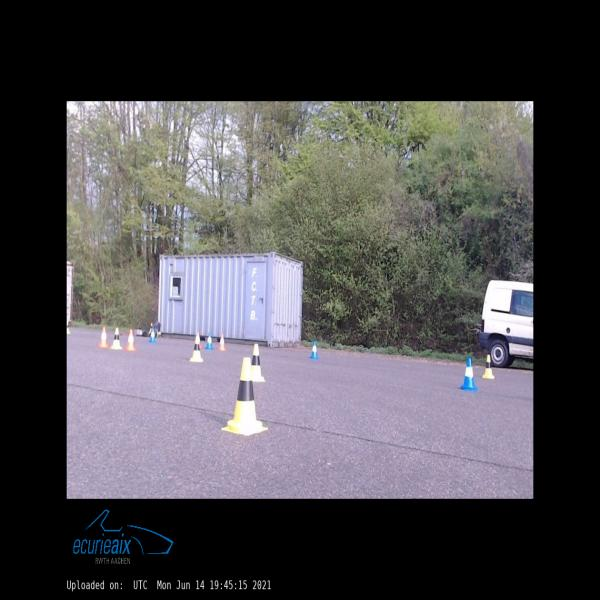blue_cone: (459, 357, 477, 390), (310, 340, 319, 358), (206, 333, 213, 349), (149, 327, 156, 342)
orange_cone: (124, 328, 137, 352), (99, 326, 109, 347), (218, 334, 226, 351), (194, 332, 202, 348)
yellow_cone: (222, 358, 268, 435), (252, 344, 266, 382), (189, 335, 203, 362), (483, 355, 494, 379), (111, 328, 122, 349), (66, 320, 70, 333), (149, 322, 153, 332)
